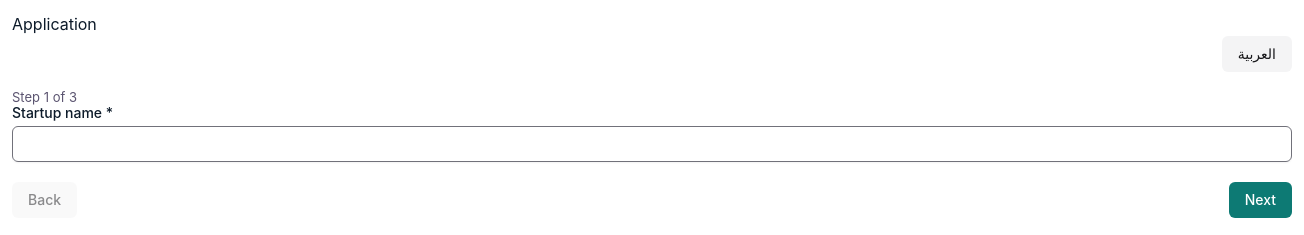
Test case: confirm-step Back does not lose answers (draft survives navigation)
Type "Beta Co" into the field labelled "Startup name *" at x=652, y=144, box [12, 126, 1292, 162]
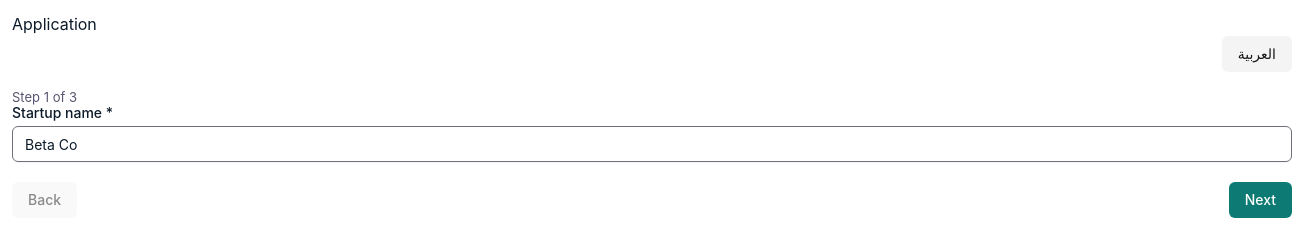
Click the button "Next" at x=1260, y=200, box [1229, 182, 1292, 218]
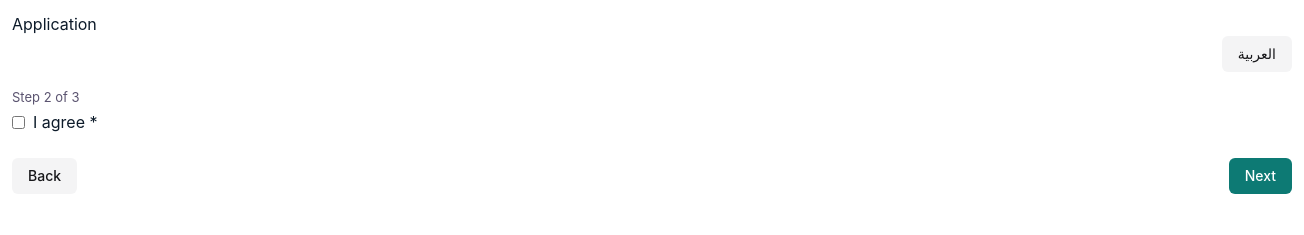
Click the button "Back" at x=45, y=176, box [12, 158, 77, 194]
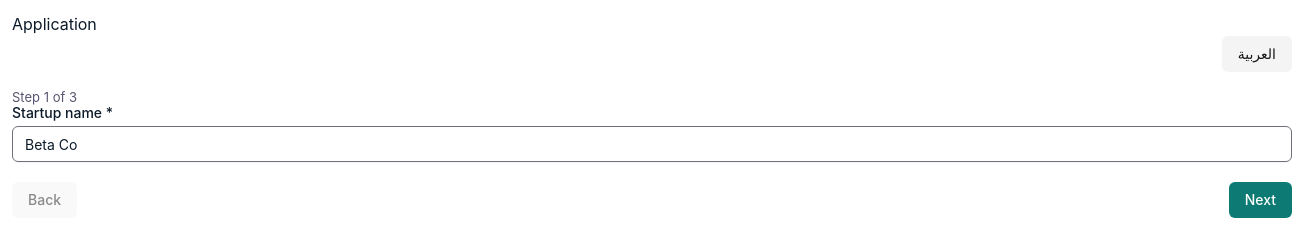
Expected: the field labelled "Startup name *" holds "Beta Co", [12, 126, 1292, 162]
